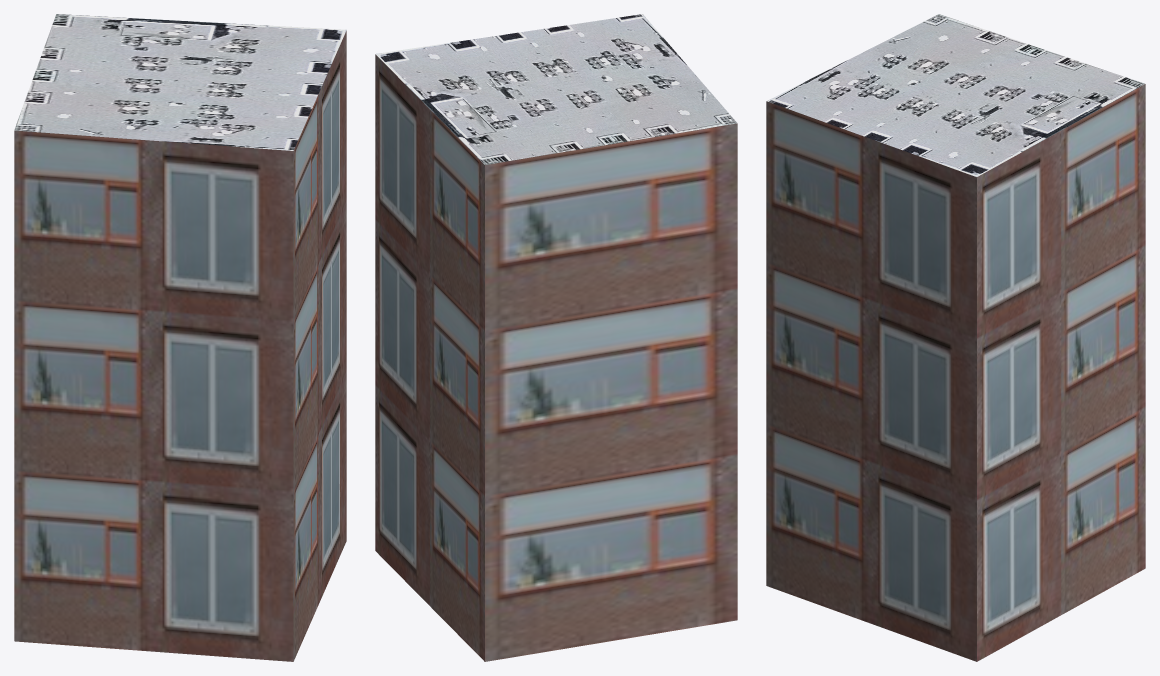
Rendered from ResTex__2704.fbx.
The picture shows the model from 3 angles, left to right: view 1: azimuth 30°, elevation 25°; view 2: azimuth 150°, elevation 25°; view 3: azimuth 270°, elevation 25°; orthographic projection. The views are drawn at different scales.
Visible parts, largest first — view 1: CityEngineMaterial_19_m, CityEngineMaterial_15_m; view 2: CityEngineMaterial_19_m, CityEngineMaterial_15_m; view 3: CityEngineMaterial_19_m, CityEngineMaterial_15_m.
Boxes of the visible parts, x1,y1,x2,y2 form: CityEngineMaterial_19_m: (14,31,346,661); CityEngineMaterial_15_m: (14,14,346,150); CityEngineMaterial_19_m: (375,54,737,661); CityEngineMaterial_15_m: (375,14,737,164); CityEngineMaterial_19_m: (766,84,1145,661); CityEngineMaterial_15_m: (767,14,1144,176).
Size of the model in its own units: 6.5 by 9 by 6.38.
Materials: 2 (2 with a texture image).
